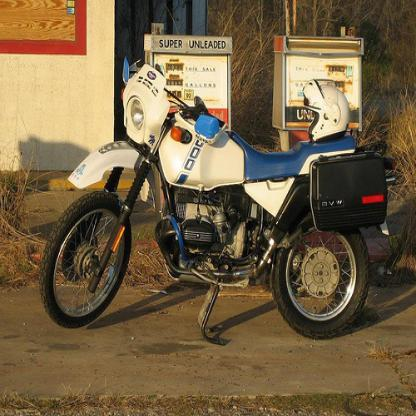motorbike: (36, 54, 392, 348)
